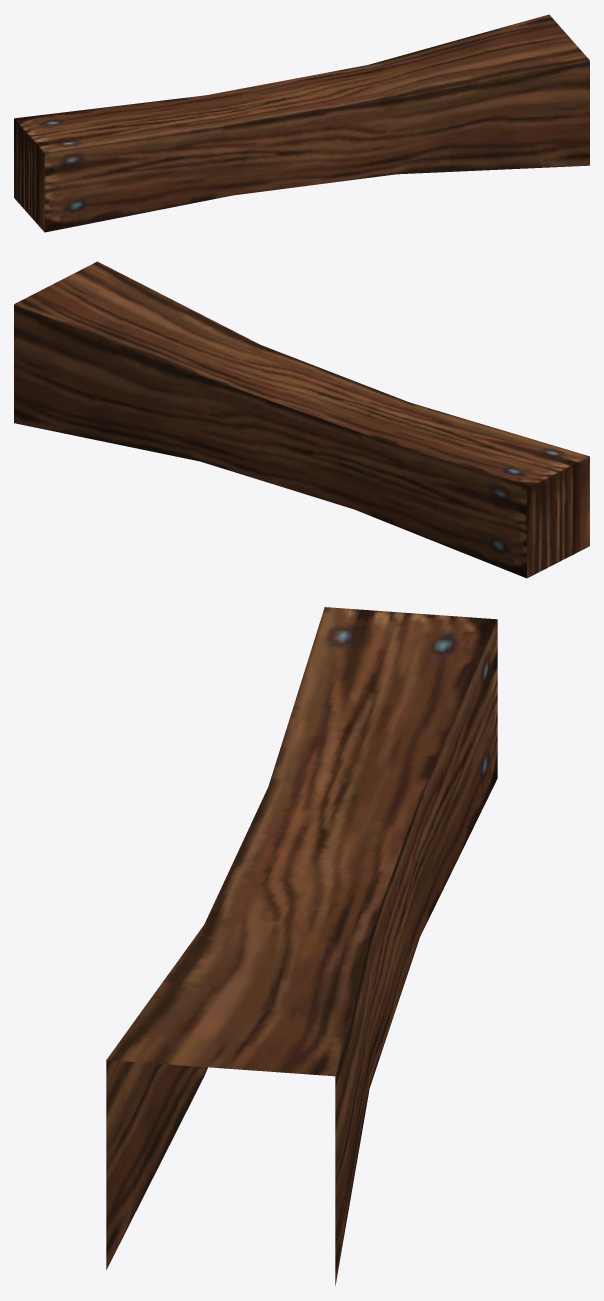
Rendered from OVERHILL_A_01_POST33.fbx.
3 renders of one model, top to bottom at view 1: azimuth 30°, elevation 25°; view 2: azimuth 150°, elevation 25°; view 3: azimuth 270°, elevation 25°, orthographic. The views are drawn at different scales.
Parts seen in each view (by area): view 1: OVERHILL_A_01_POST33; view 2: OVERHILL_A_01_POST33; view 3: OVERHILL_A_01_POST33.
Boxes of the visible parts, x1=… form: OVERHILL_A_01_POST33: x1=14, y1=14, x2=589, y2=232; OVERHILL_A_01_POST33: x1=14, y1=261, x2=589, y2=578; OVERHILL_A_01_POST33: x1=106, y1=607, x2=497, y2=1285.
Bounding box in the file's own units: 21678 × 4299 × 7244.
Materials: 1 (1 with a texture image).
